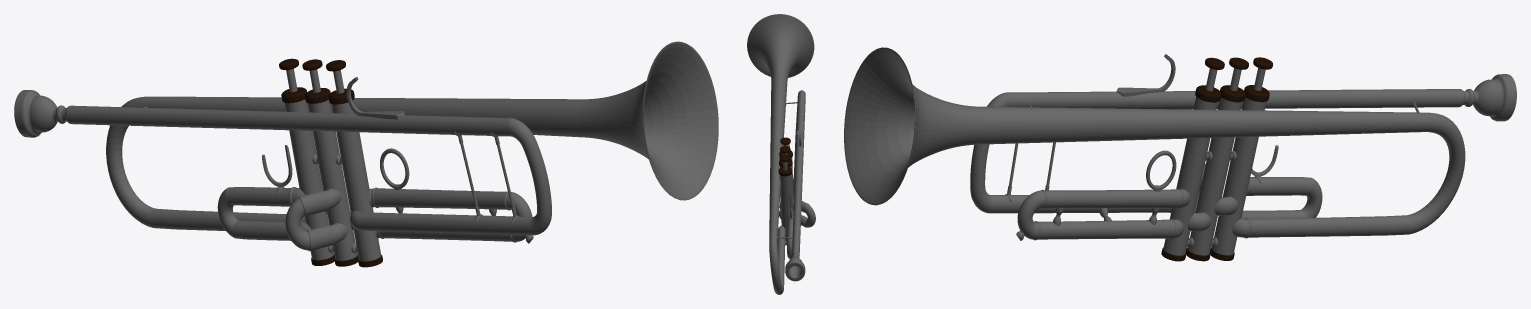
Rendered from Trompete.obj.
3 renders of one model, left to right at view 1: azimuth 30°, elevation 25°; view 2: azimuth 150°, elevation 25°; view 3: azimuth 270°, elevation 25°, orthographic. The views are drawn at different scales.
Parts seen in each view (by area): view 1: 10395_Trumpet_v1; view 2: 10395_Trumpet_v1; view 3: 10395_Trumpet_v1.
Boxes of the visible parts, x1=… form: 10395_Trumpet_v1: x1=14, y1=41, x2=718, y2=267; 10395_Trumpet_v1: x1=747, y1=14, x2=815, y2=294; 10395_Trumpet_v1: x1=844, y1=47, x2=1516, y2=261.
Bounding box in the file's own units: 5.42 × 3.89 × 7.72.
